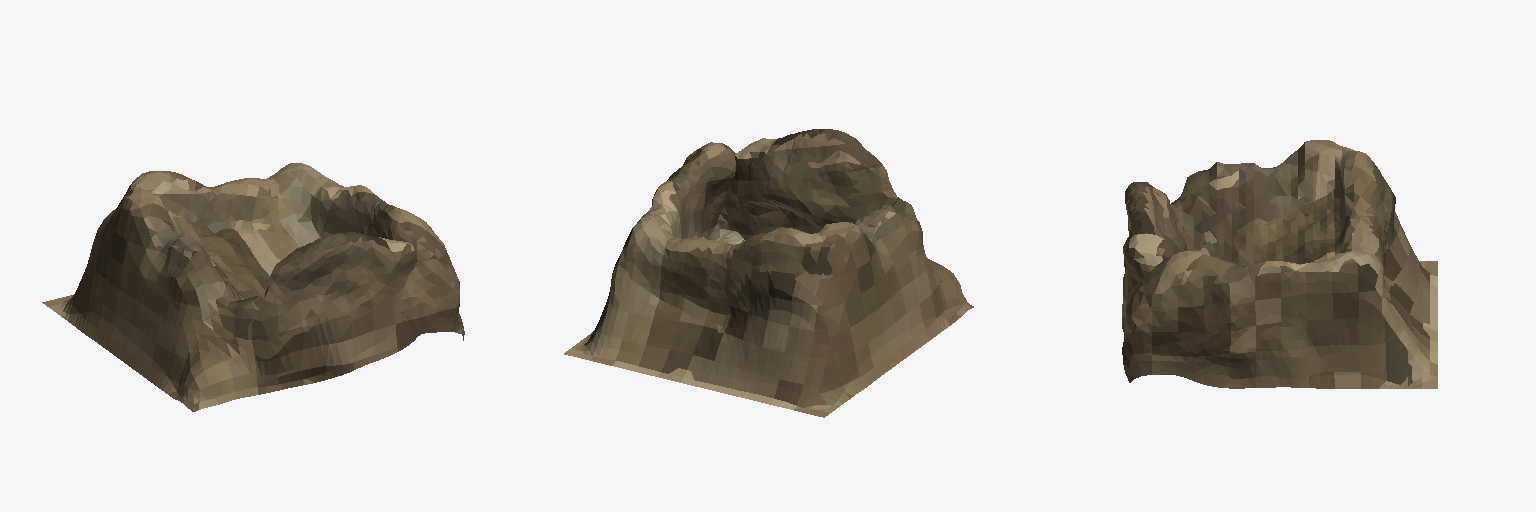
3 renders of one model, left to right at view 1: azimuth 30°, elevation 25°; view 2: azimuth 150°, elevation 25°; view 3: azimuth 270°, elevation 25°, orthographic.
Visible parts, largest first — view 1: Landscape.003; view 2: Landscape.003; view 3: Landscape.003.
Boxes of the visible parts, <box> form: Landscape.003: <box>42,163,464,411</box>; Landscape.003: <box>564,129,973,417</box>; Landscape.003: <box>1122,140,1437,388</box>.
Size of the model in its own units: 32.95 by 16.29 by 32.73.
1 materials, 1 textured.